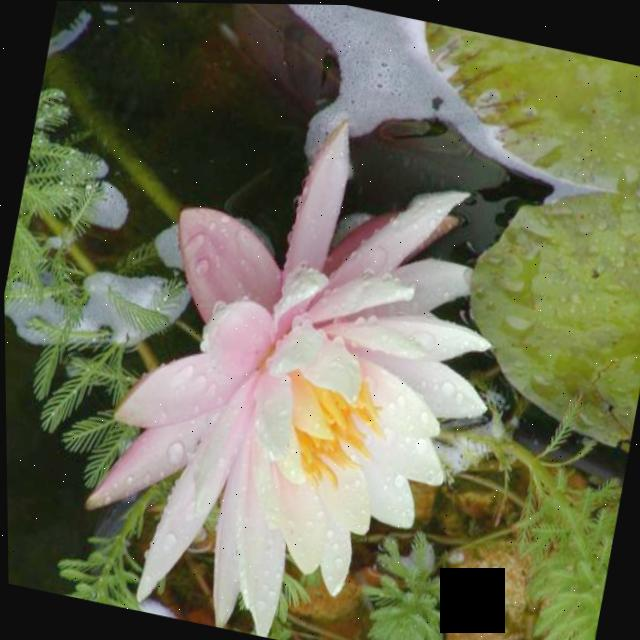water-lily: (70, 93, 517, 640)
